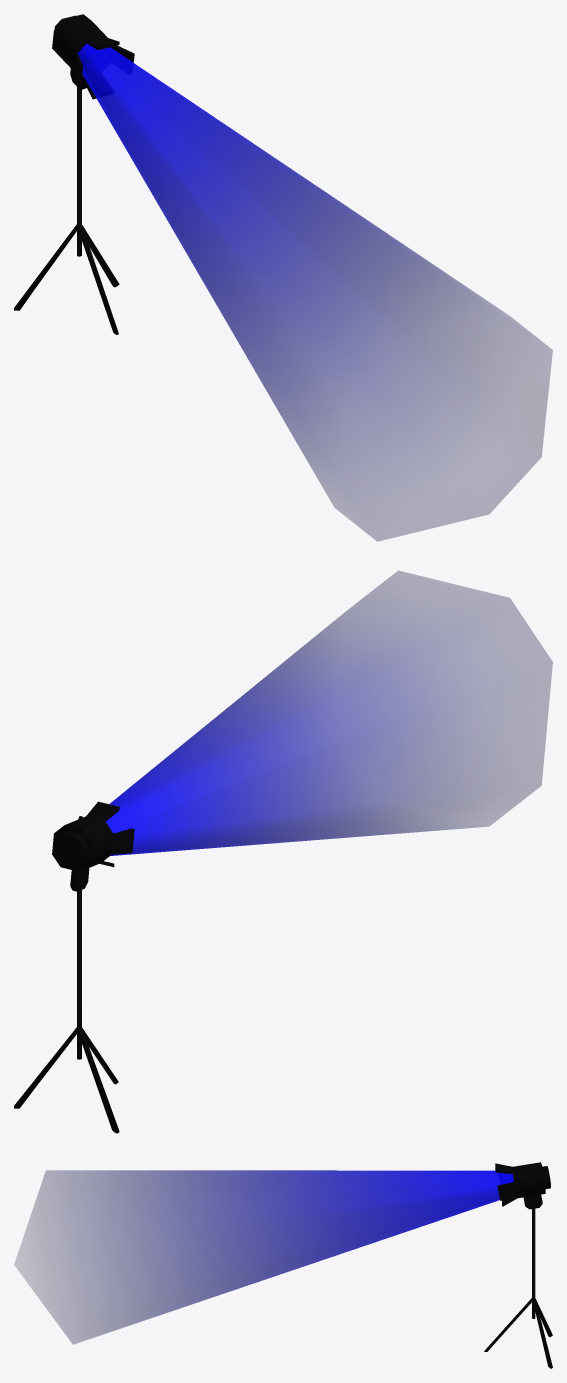
Rendered from 6032ca36-bc3c-4ebf-852d-8a9bba89c3b3.glb.
The picture shows the model from 3 angles, top to bottom: view 1: azimuth 30°, elevation 25°; view 2: azimuth 150°, elevation 25°; view 3: azimuth 270°, elevation 25°; orthographic projection. The views are drawn at different scales.
Parts seen in each view (by area): view 1: LightingStandOnBlue; view 2: LightingStandOnBlue; view 3: LightingStandOnBlue.
Part boxes in pixels (x1,y1,x2,y2): LightingStandOnBlue: (14, 14, 552, 541); LightingStandOnBlue: (14, 571, 552, 1133); LightingStandOnBlue: (14, 1162, 552, 1368).
Size of what is drawn, in the model's own units: 2.58 by 3.41 by 8.91.
2 materials, 2 textured.
